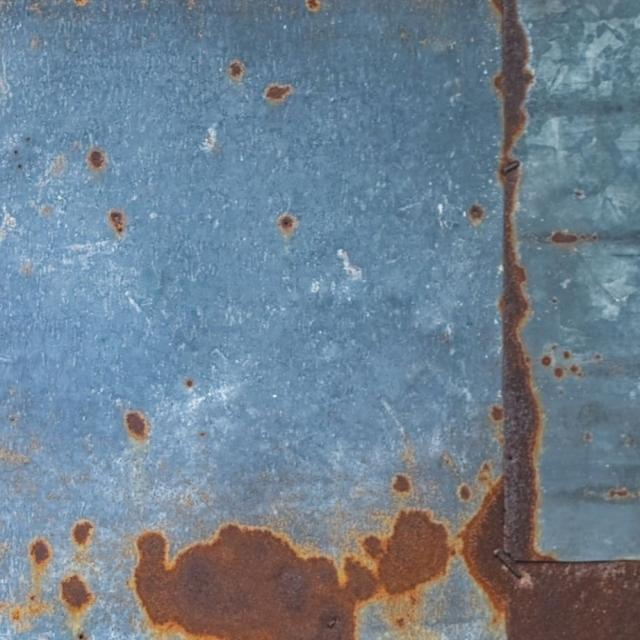Uniform Corrosion: (493, 0, 639, 639), (135, 525, 356, 639), (343, 474, 461, 639), (461, 479, 506, 617), (61, 575, 92, 611), (125, 411, 149, 441), (263, 83, 292, 103), (72, 519, 93, 546), (30, 539, 51, 565), (87, 148, 106, 171)
